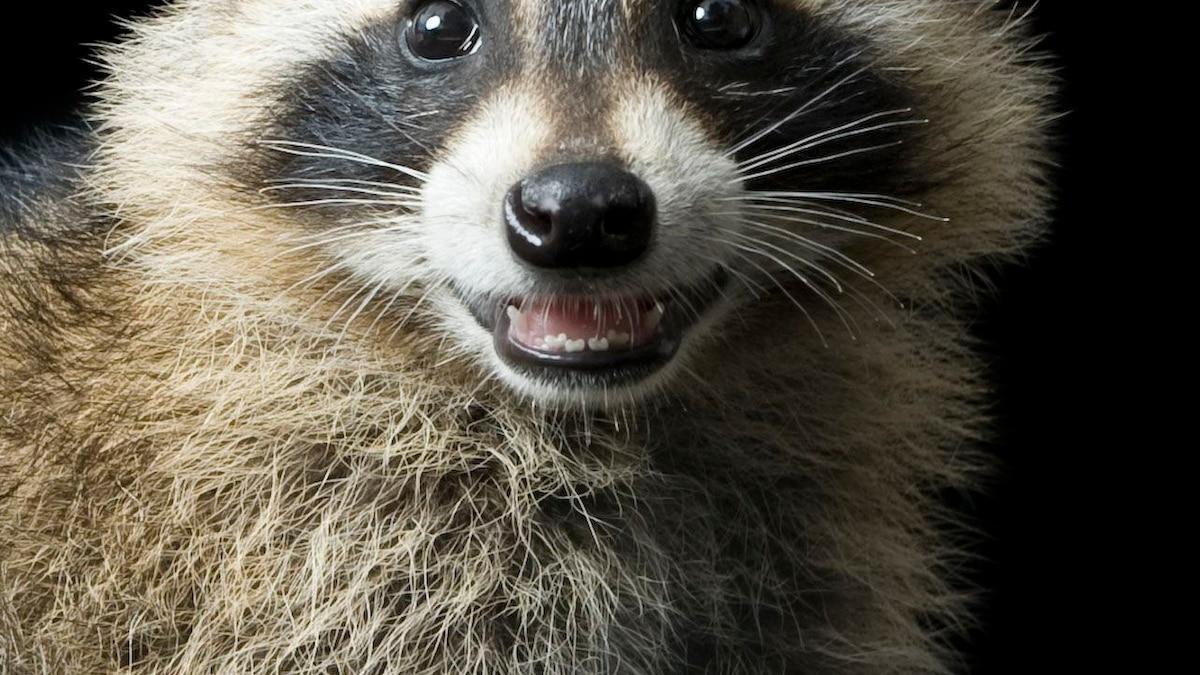raccoon: (1, 0, 1059, 675)
